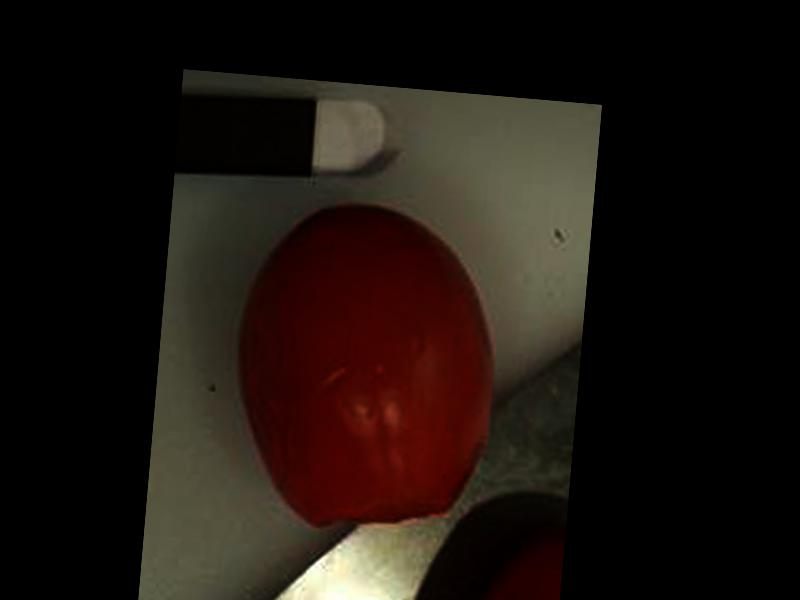Tomato: (224, 195, 509, 539)
